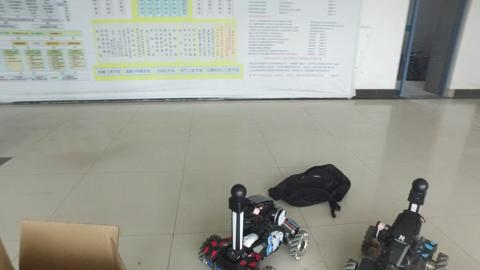bag: (264, 156, 355, 209)
chariot: (345, 174, 453, 270), (201, 181, 311, 270)
